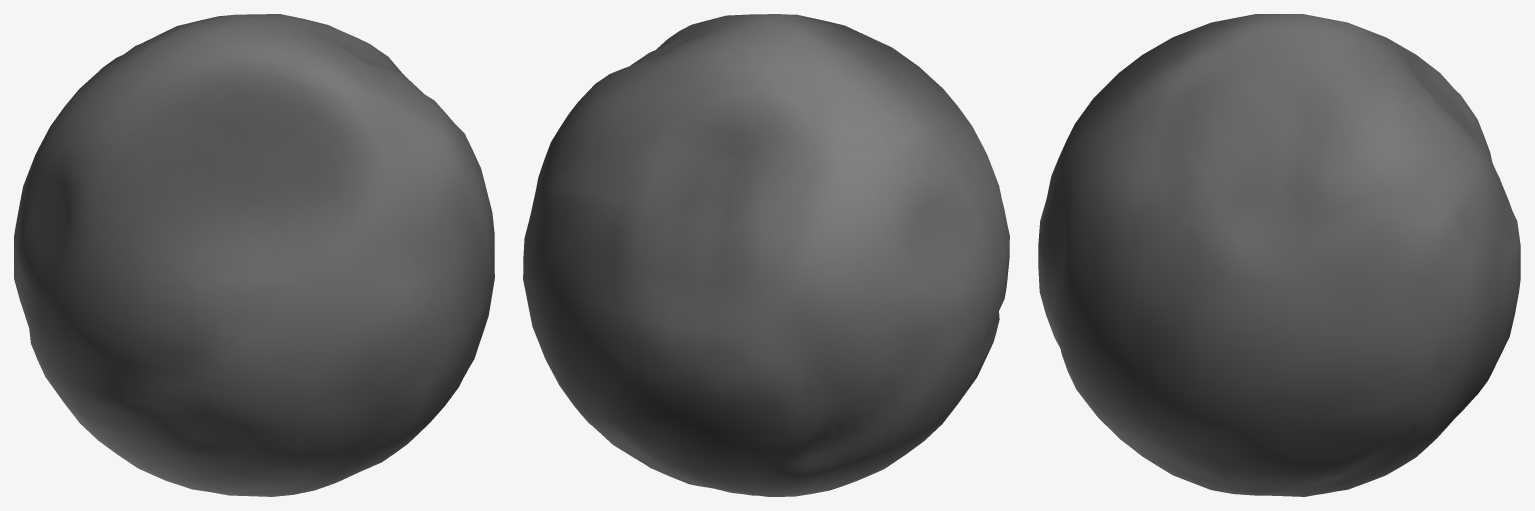
File: BallNoEyes.fbx
3 views of the same model, side by side, from view 1: azimuth 30°, elevation 25°; view 2: azimuth 150°, elevation 25°; view 3: azimuth 270°, elevation 25° (orthographic).
Parts seen in each view (by area): view 1: Ball; view 2: Ball; view 3: Ball.
Part boxes in pixels (box(x1,y1,x2,y2)): Ball: box(14, 14, 494, 496); Ball: box(523, 14, 1009, 496); Ball: box(1038, 14, 1520, 496).
Bounding box in the file's own units: 68.28 × 68.39 × 68.34.
